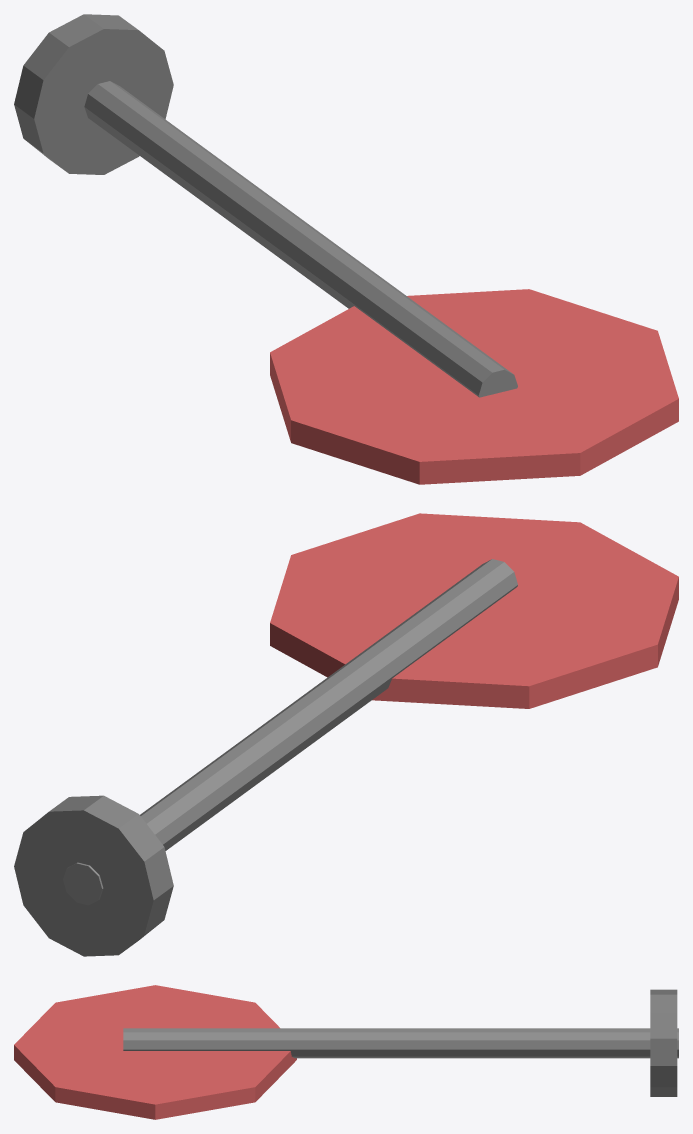
Rendered from road_stop_sign.glb.
3 renders of one model, top to bottom at view 1: azimuth 30°, elevation 25°; view 2: azimuth 150°, elevation 25°; view 3: azimuth 270°, elevation 25°, orthographic. The views are drawn at different scales.
Parts seen in each view (by area): view 1: octagon_plate, sign_pole, sign_base; view 2: octagon_plate, sign_pole, sign_base; view 3: octagon_plate, sign_pole, sign_base.
Part boxes in pixels (x1,y1,x2,y2): octagon_plate: (270, 289, 678, 484); sign_pole: (84, 81, 517, 397); sign_base: (14, 14, 173, 174); octagon_plate: (270, 513, 678, 708); sign_pole: (63, 559, 517, 905); sign_base: (14, 795, 173, 956); octagon_plate: (14, 985, 296, 1119); sign_pole: (123, 1028, 678, 1058); sign_base: (650, 989, 677, 1096).
Size of the model in its own units: 0.84 by 0.32 by 1.98.
